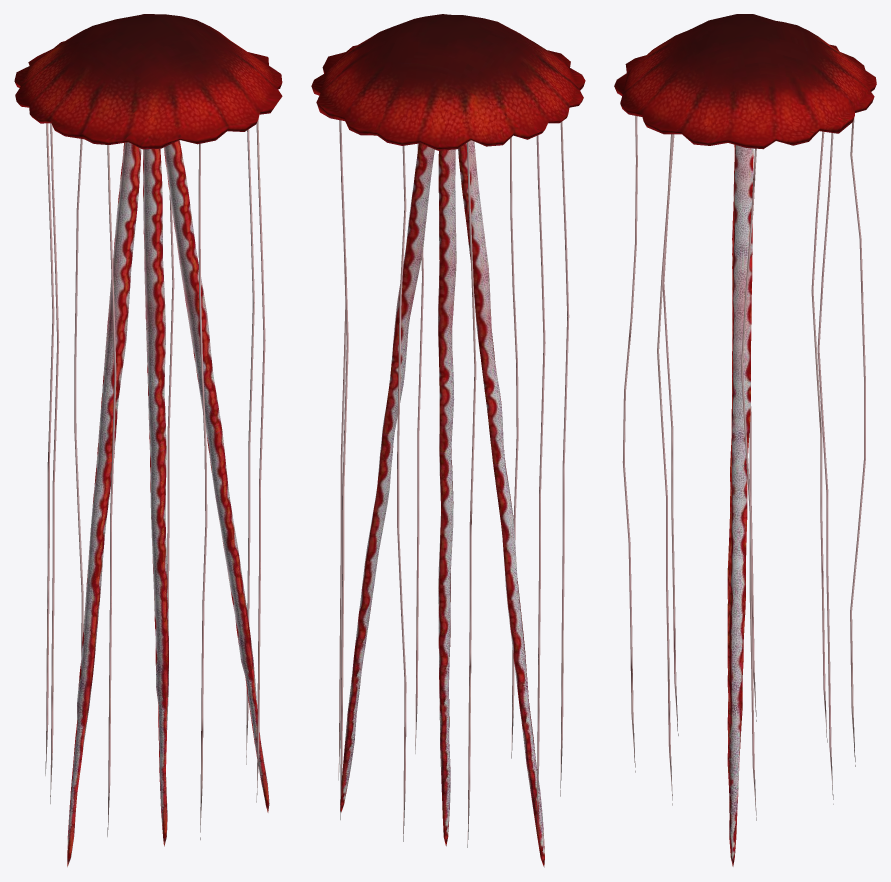
3 views of the same model, side by side, from view 1: azimuth 30°, elevation 25°; view 2: azimuth 150°, elevation 25°; view 3: azimuth 270°, elevation 25° (orthographic). The views are drawn at different scales.
Visible parts, largest first — view 1: node_Black_sea_nettle_prefab_70236; view 2: node_Black_sea_nettle_prefab_70236; view 3: node_Black_sea_nettle_prefab_70236.
Part boxes in pixels (box(x1,y1,x2,y2)): node_Black_sea_nettle_prefab_70236: box(14, 14, 282, 867); node_Black_sea_nettle_prefab_70236: box(311, 14, 585, 867); node_Black_sea_nettle_prefab_70236: box(614, 14, 876, 866).
Size of the model in its own units: 0.908 by 3.03 by 0.9072.
1 material, 1 textured.
